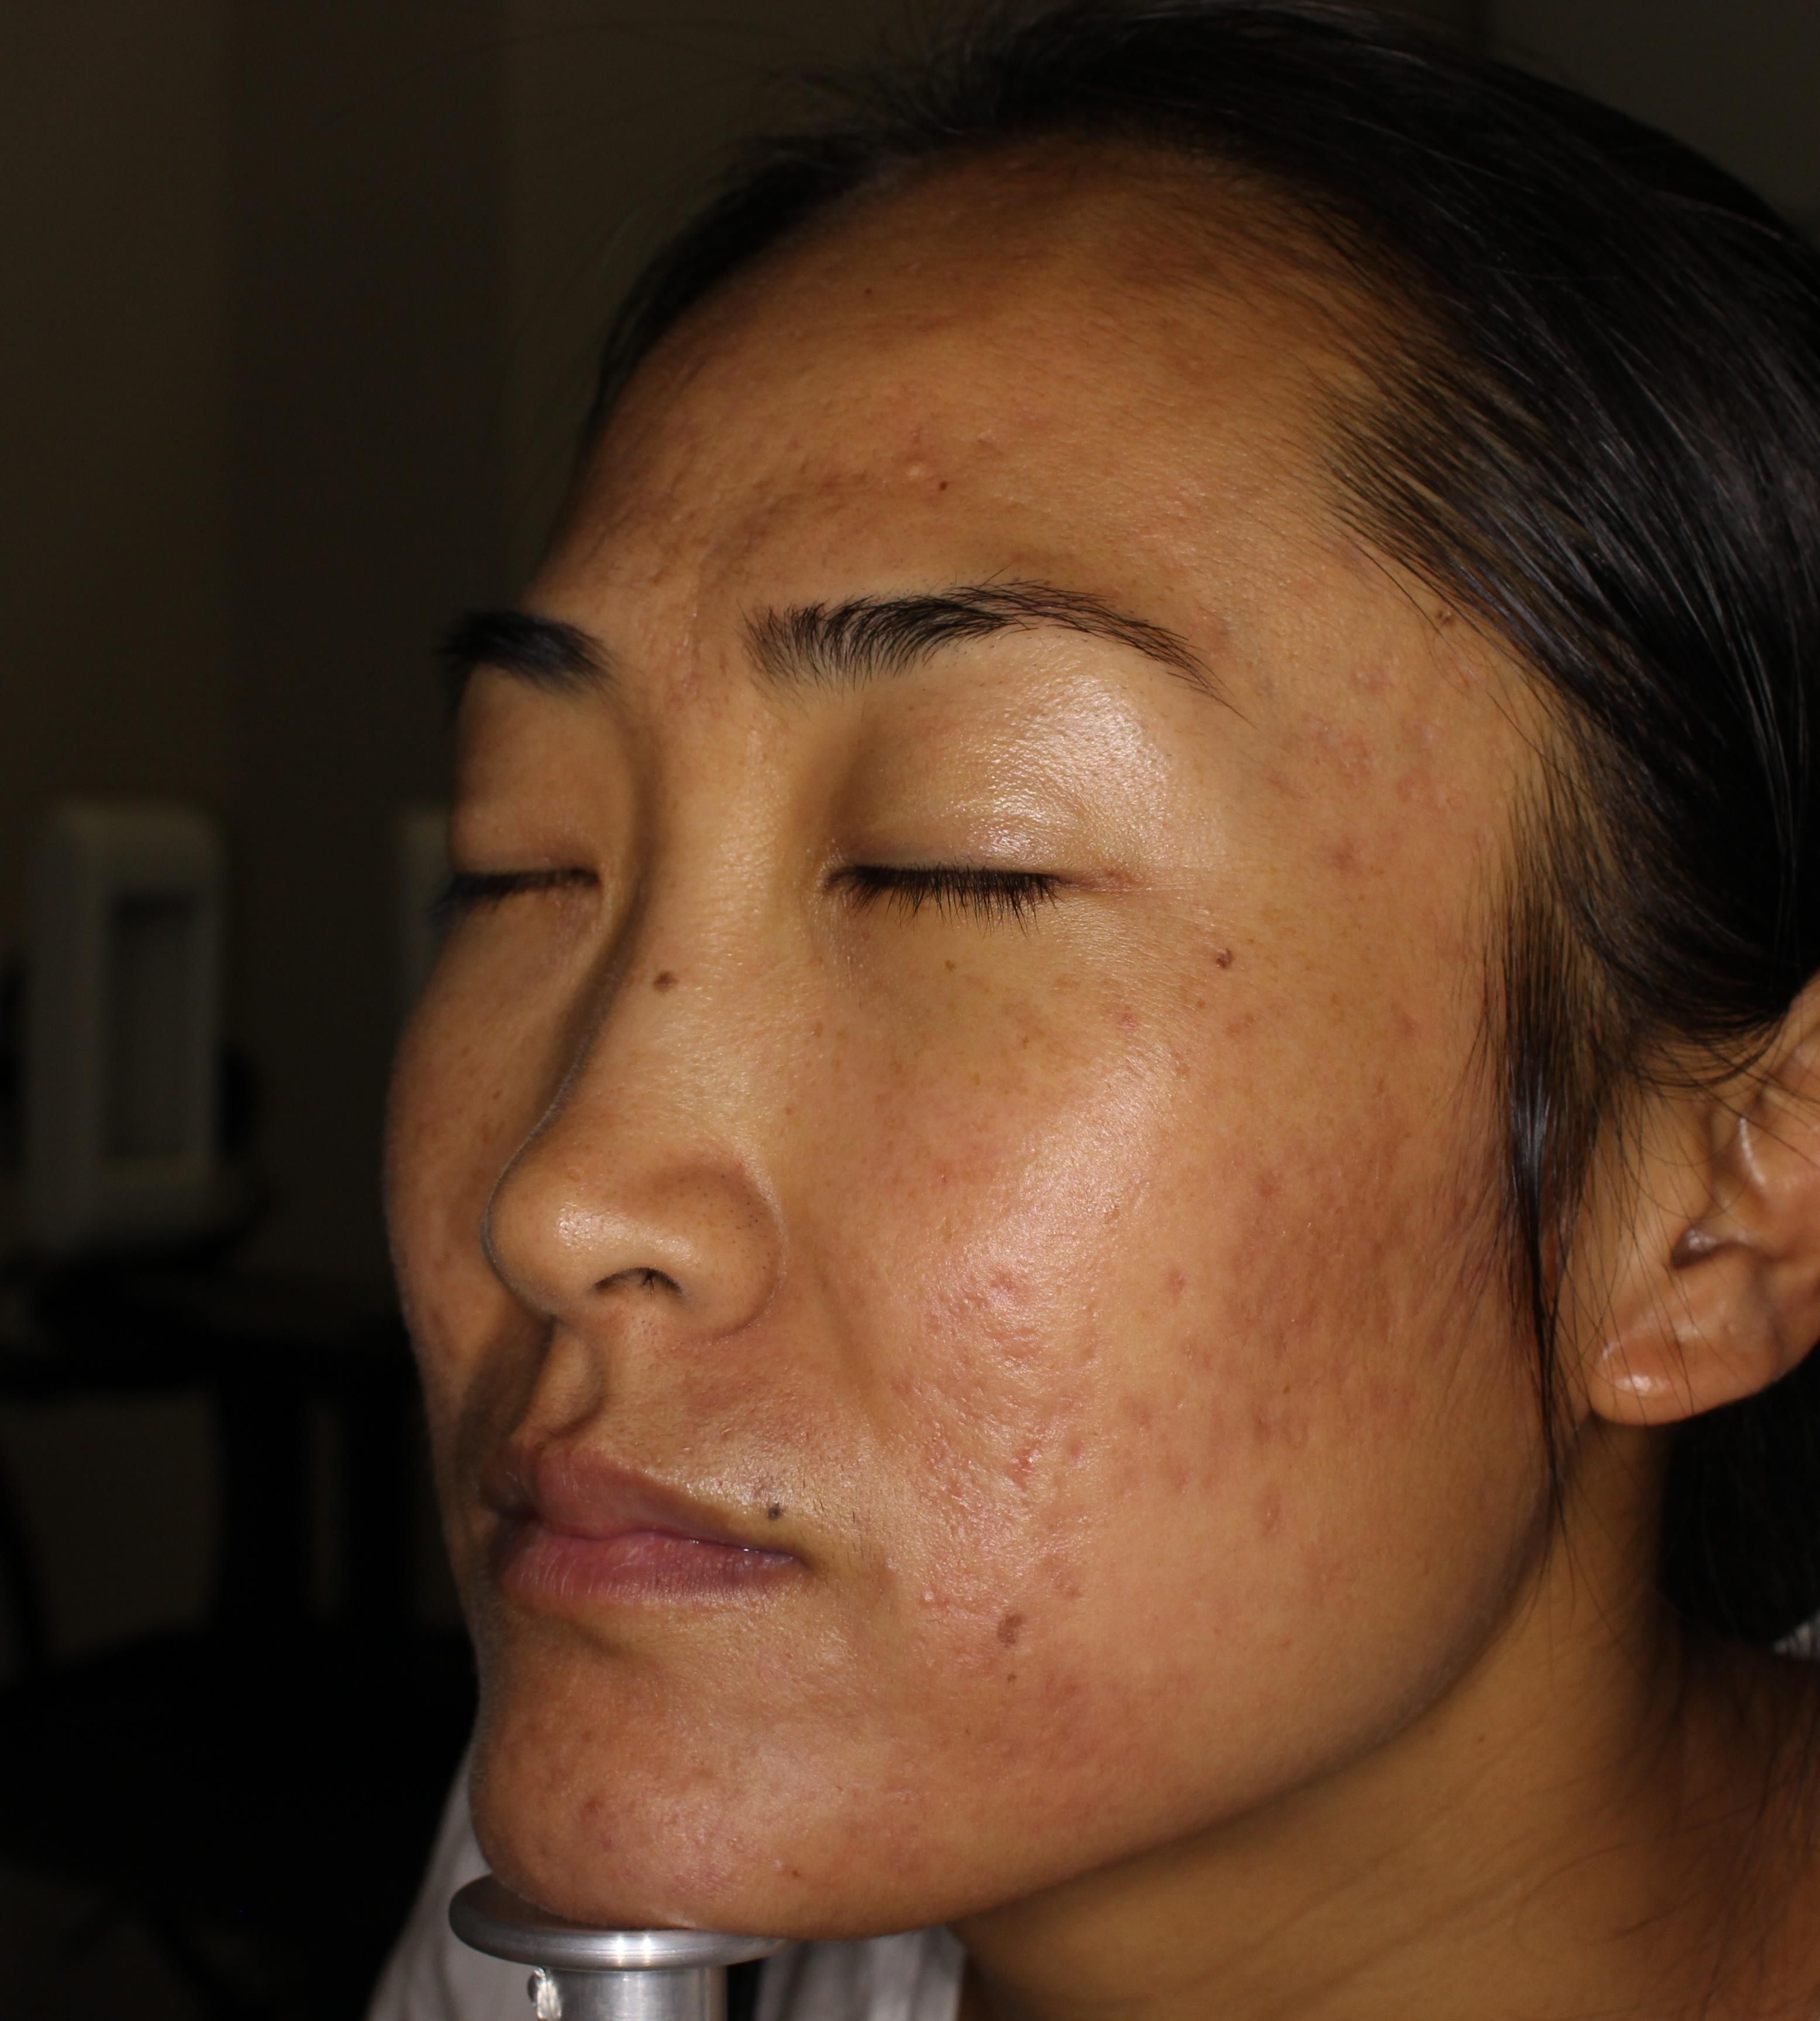fore: (991, 1428, 1077, 1491), (1314, 824, 1390, 890), (1228, 1392, 1296, 1456), (1149, 1245, 1216, 1306), (1251, 1159, 1309, 1226), (884, 437, 950, 486)
